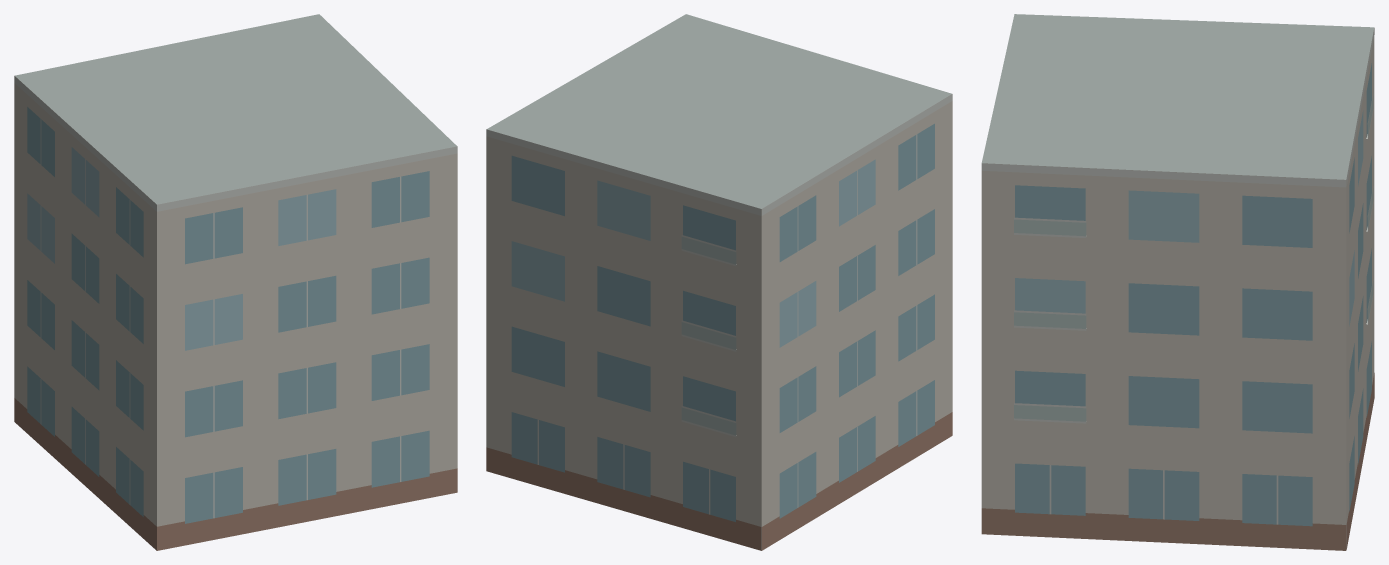
Rendered from survey-upis-32811498.glb.
3 views of the same model, side by side, from view 1: azimuth 30°, elevation 25°; view 2: azimuth 150°, elevation 25°; view 3: azimuth 270°, elevation 25° (orthographic). The views are drawn at different scales.
Visible parts, largest first — view 1: survey-upis-32811498.tmp; view 2: survey-upis-32811498.tmp; view 3: survey-upis-32811498.tmp.
Boxes of the visible parts, <box> form: survey-upis-32811498.tmp: <box>14,14,457,550</box>; survey-upis-32811498.tmp: <box>486,14,952,550</box>; survey-upis-32811498.tmp: <box>981,14,1374,550</box>.
Bounding box in the file's own units: 11.42 × 11.9 × 11.43.
